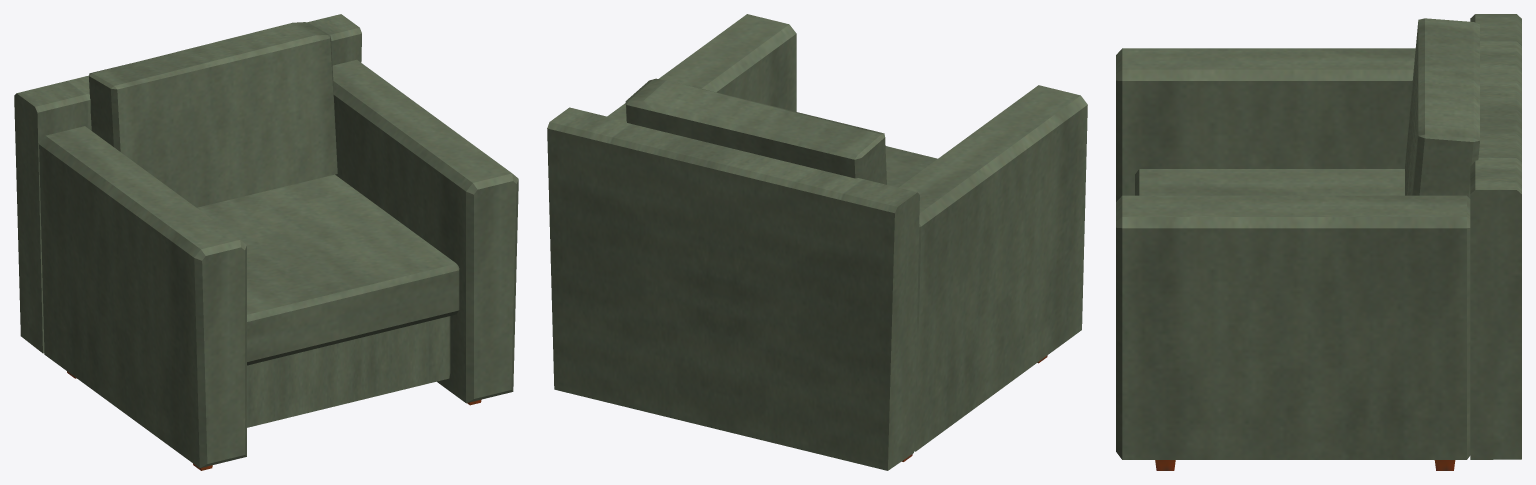
File: armchair_green.obj
The picture shows the model from 3 angles, left to right: view 1: azimuth 30°, elevation 25°; view 2: azimuth 150°, elevation 25°; view 3: azimuth 270°, elevation 25°; orthographic projection. The views are drawn at different scales.
Visible parts, largest first — view 1: armchair_green; view 2: armchair_green; view 3: armchair_green.
Boxes of the visible parts, <box> form: armchair_green: <box>14,14,518,470</box>; armchair_green: <box>547,14,1087,470</box>; armchair_green: <box>1116,14,1521,470</box>.
Size of the model in its own units: 1.4 by 1.19 by 1.36.
